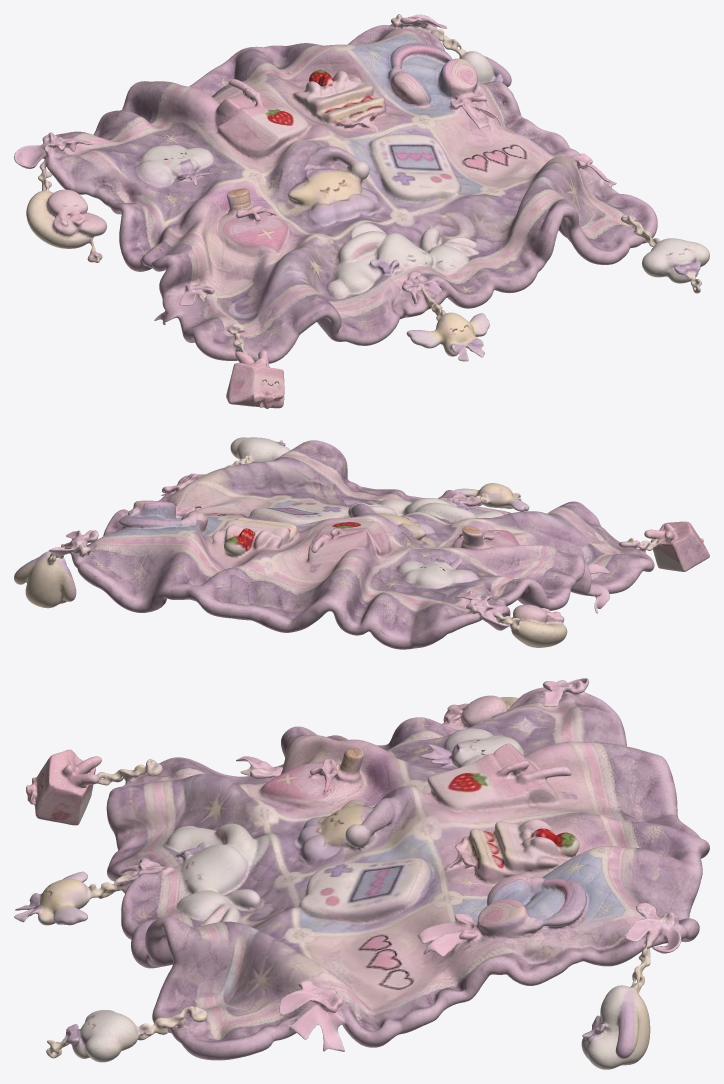
The model's file is blanket-small.glb.
3 views of the same model, one above another, from view 1: azimuth 30°, elevation 25°; view 2: azimuth 150°, elevation 25°; view 3: azimuth 270°, elevation 25° (orthographic). The views are drawn at different scales.
Bounding box in the file's own units: 1.9 × 0.4626 × 1.77.
Materials: 1 (1 with a texture image).
